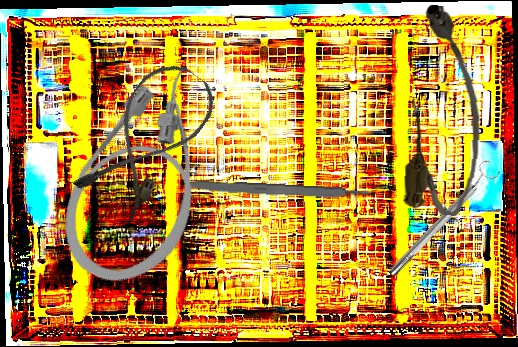Cannula: (40, 47, 253, 304), (68, 51, 226, 226), (402, 4, 487, 217)
Fixation Ring: (382, 157, 503, 282)
Scalpel Handle: (177, 178, 374, 203)
